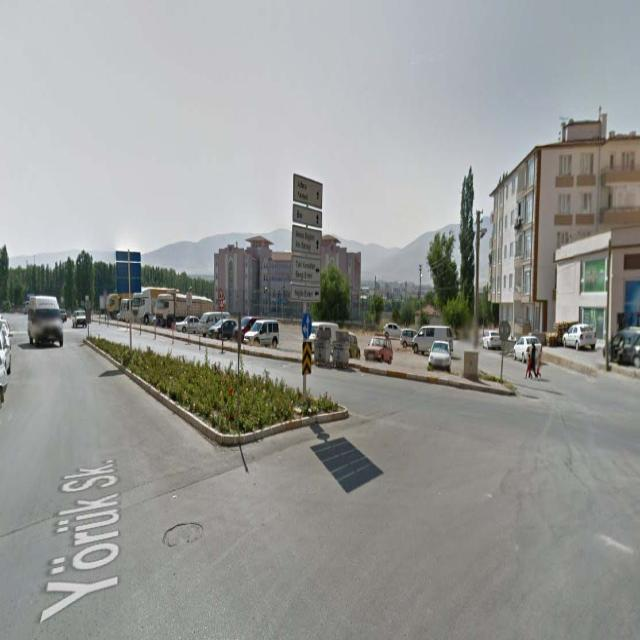ilerisol: (302, 313, 310, 337)
